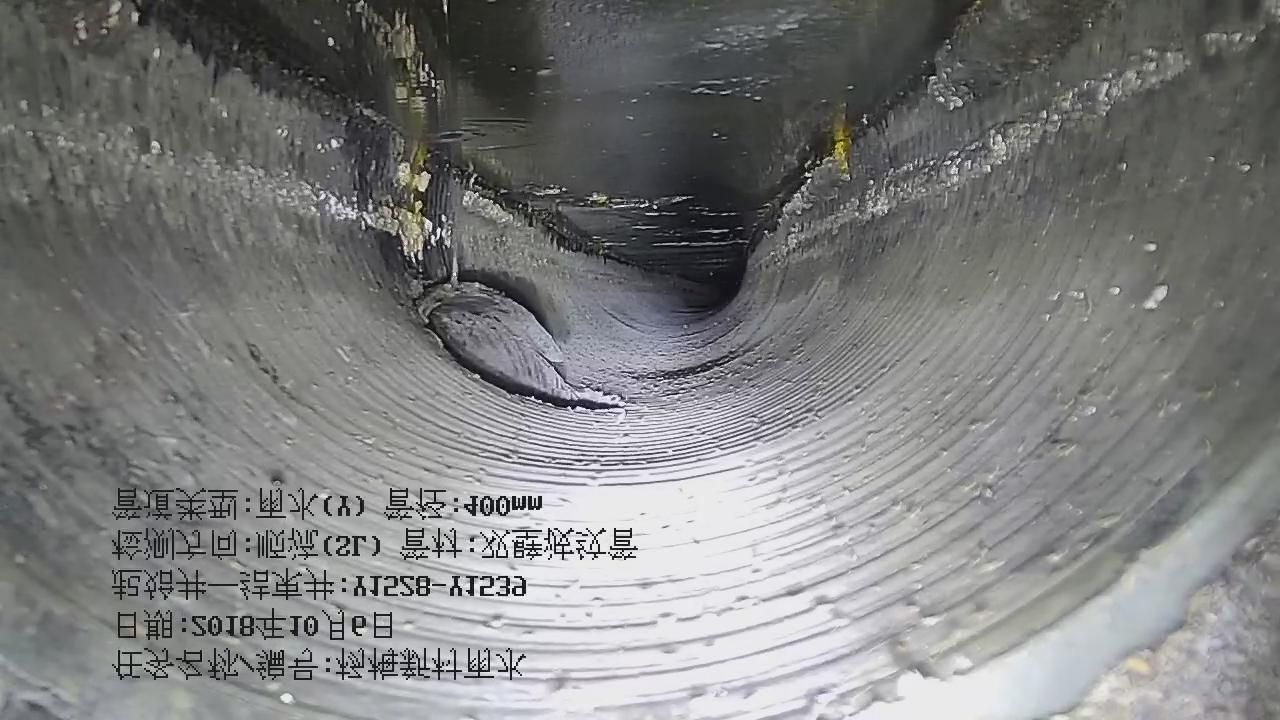JG: (934, 1, 1113, 91)
PL: (417, 281, 623, 407)
